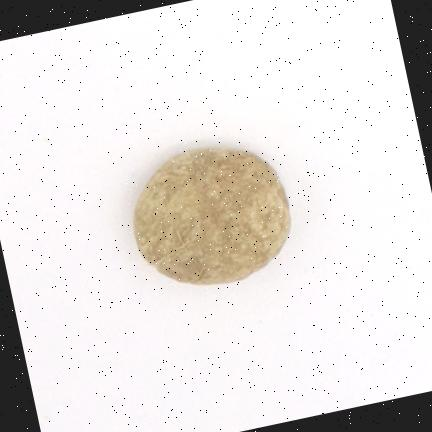immature: (134, 148, 290, 284)
